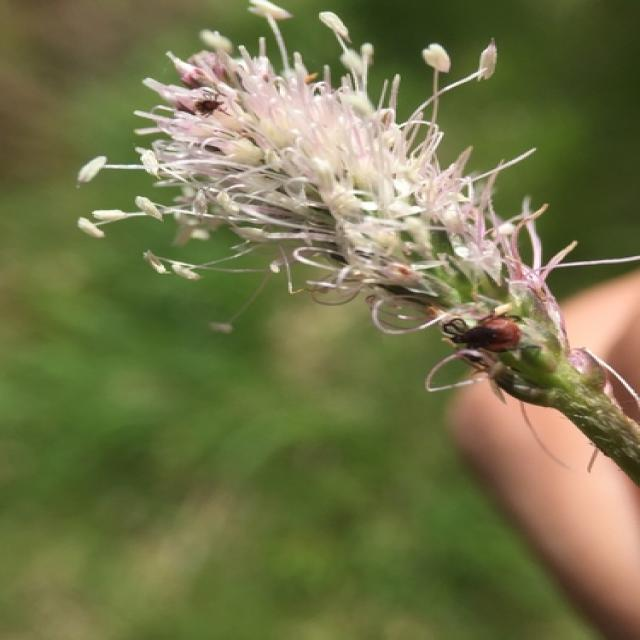Ixodes Ricinus-F: (440, 315, 522, 351)
